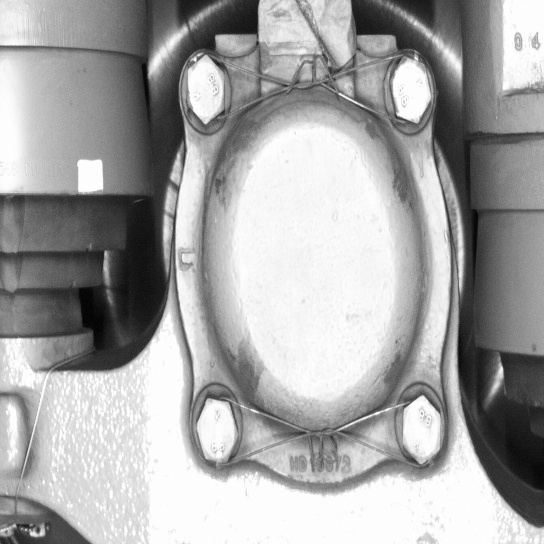IronWire: (179, 46, 436, 135), (189, 388, 447, 473)
Screw: (189, 388, 245, 473), (380, 47, 435, 133), (179, 46, 232, 134), (395, 388, 446, 472)
